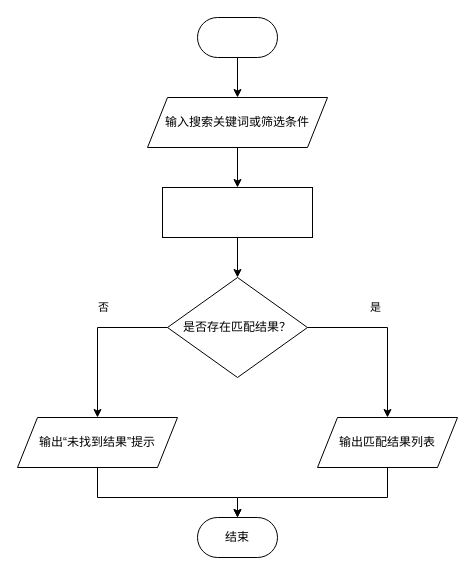
Image size: 475x575. Some labels were removed from this diagram. The shapes that lost their labels are listed below. From the top down, each one's centre as x and y in pixels, then its label:
At [237,37]: "开始".
At [237,212]: "解析并验证搜索条件".
